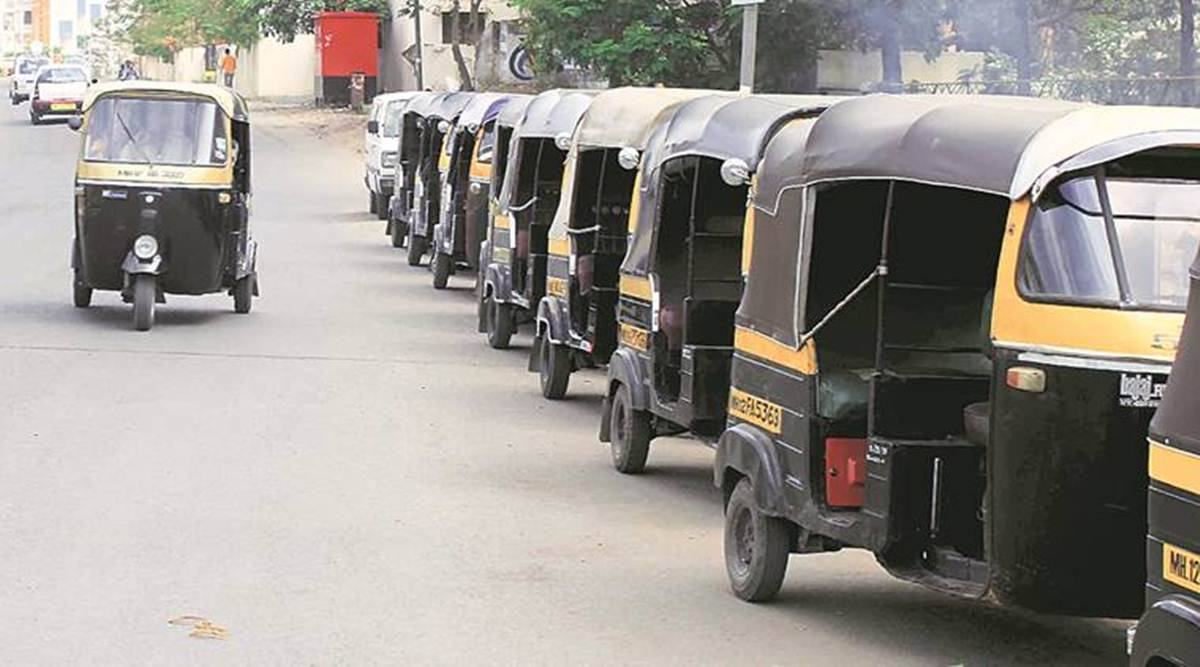car: (22, 58, 93, 119)
rickshaw: (715, 97, 1194, 611), (587, 96, 807, 473), (78, 84, 268, 334), (538, 84, 665, 412)
